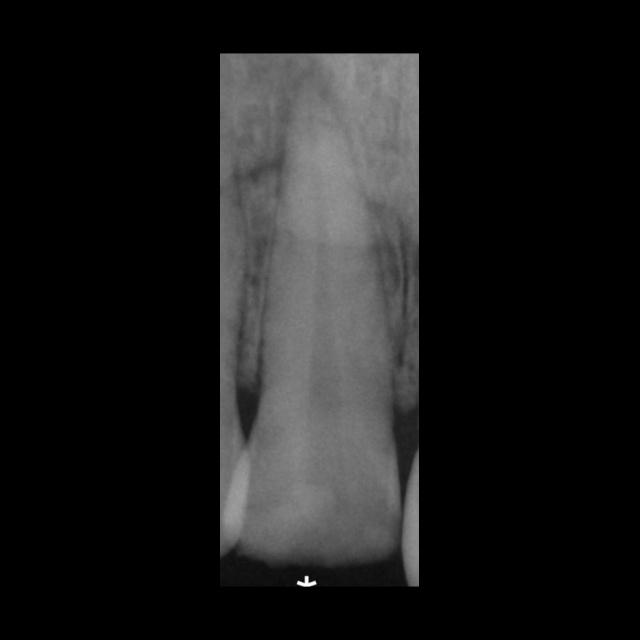tooth: (221, 86, 404, 565)
